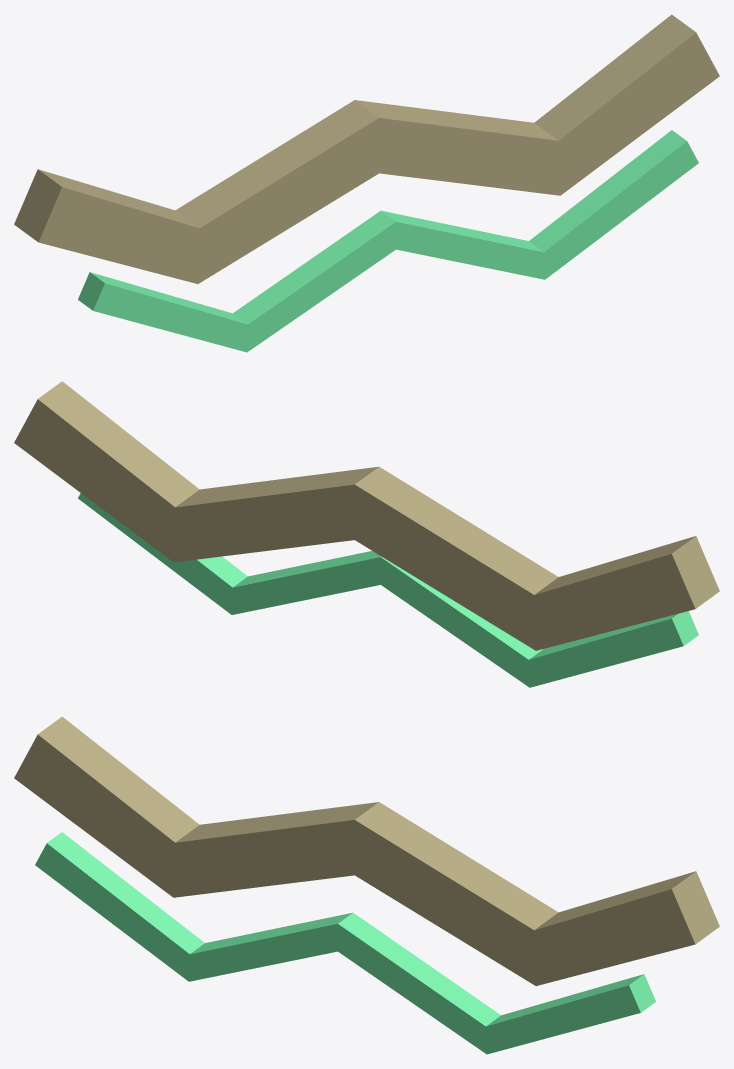
Rendered from wave_border.obj.
The picture shows the model from 3 angles, top to bottom: view 1: azimuth 30°, elevation 25°; view 2: azimuth 150°, elevation 25°; view 3: azimuth 330°, elevation 25°; orthographic projection.
Visible parts, largest first — view 1: wave_border, wave_border_edge, wave_inner, wave_inner_edge; view 2: wave_border, wave_border_edge, wave_inner, wave_inner_edge; view 3: wave_border, wave_border_edge, wave_inner, wave_inner_edge.
Part boxes in pixels (x1=…): wave_border: x1=38, y1=32, x2=719, y2=283; wave_border_edge: x1=14, y1=14, x2=695, y2=242; wave_inner: x1=93, y1=141, x2=698, y2=352; wave_inner_edge: x1=78, y1=130, x2=686, y2=324; wave_border: x1=14, y1=399, x2=695, y2=650; wave_border_edge: x1=38, y1=381, x2=719, y2=608; wave_inner: x1=78, y1=493, x2=683, y2=687; wave_inner_edge: x1=197, y1=551, x2=698, y2=659; wave_border: x1=14, y1=734, x2=695, y2=985; wave_border_edge: x1=38, y1=716, x2=719, y2=944; wave_inner: x1=35, y1=843, x2=640, y2=1054; wave_inner_edge: x1=47, y1=832, x2=655, y2=1026.
Size of the model in its own units: 1.28 by 0.3497 by 0.135.
